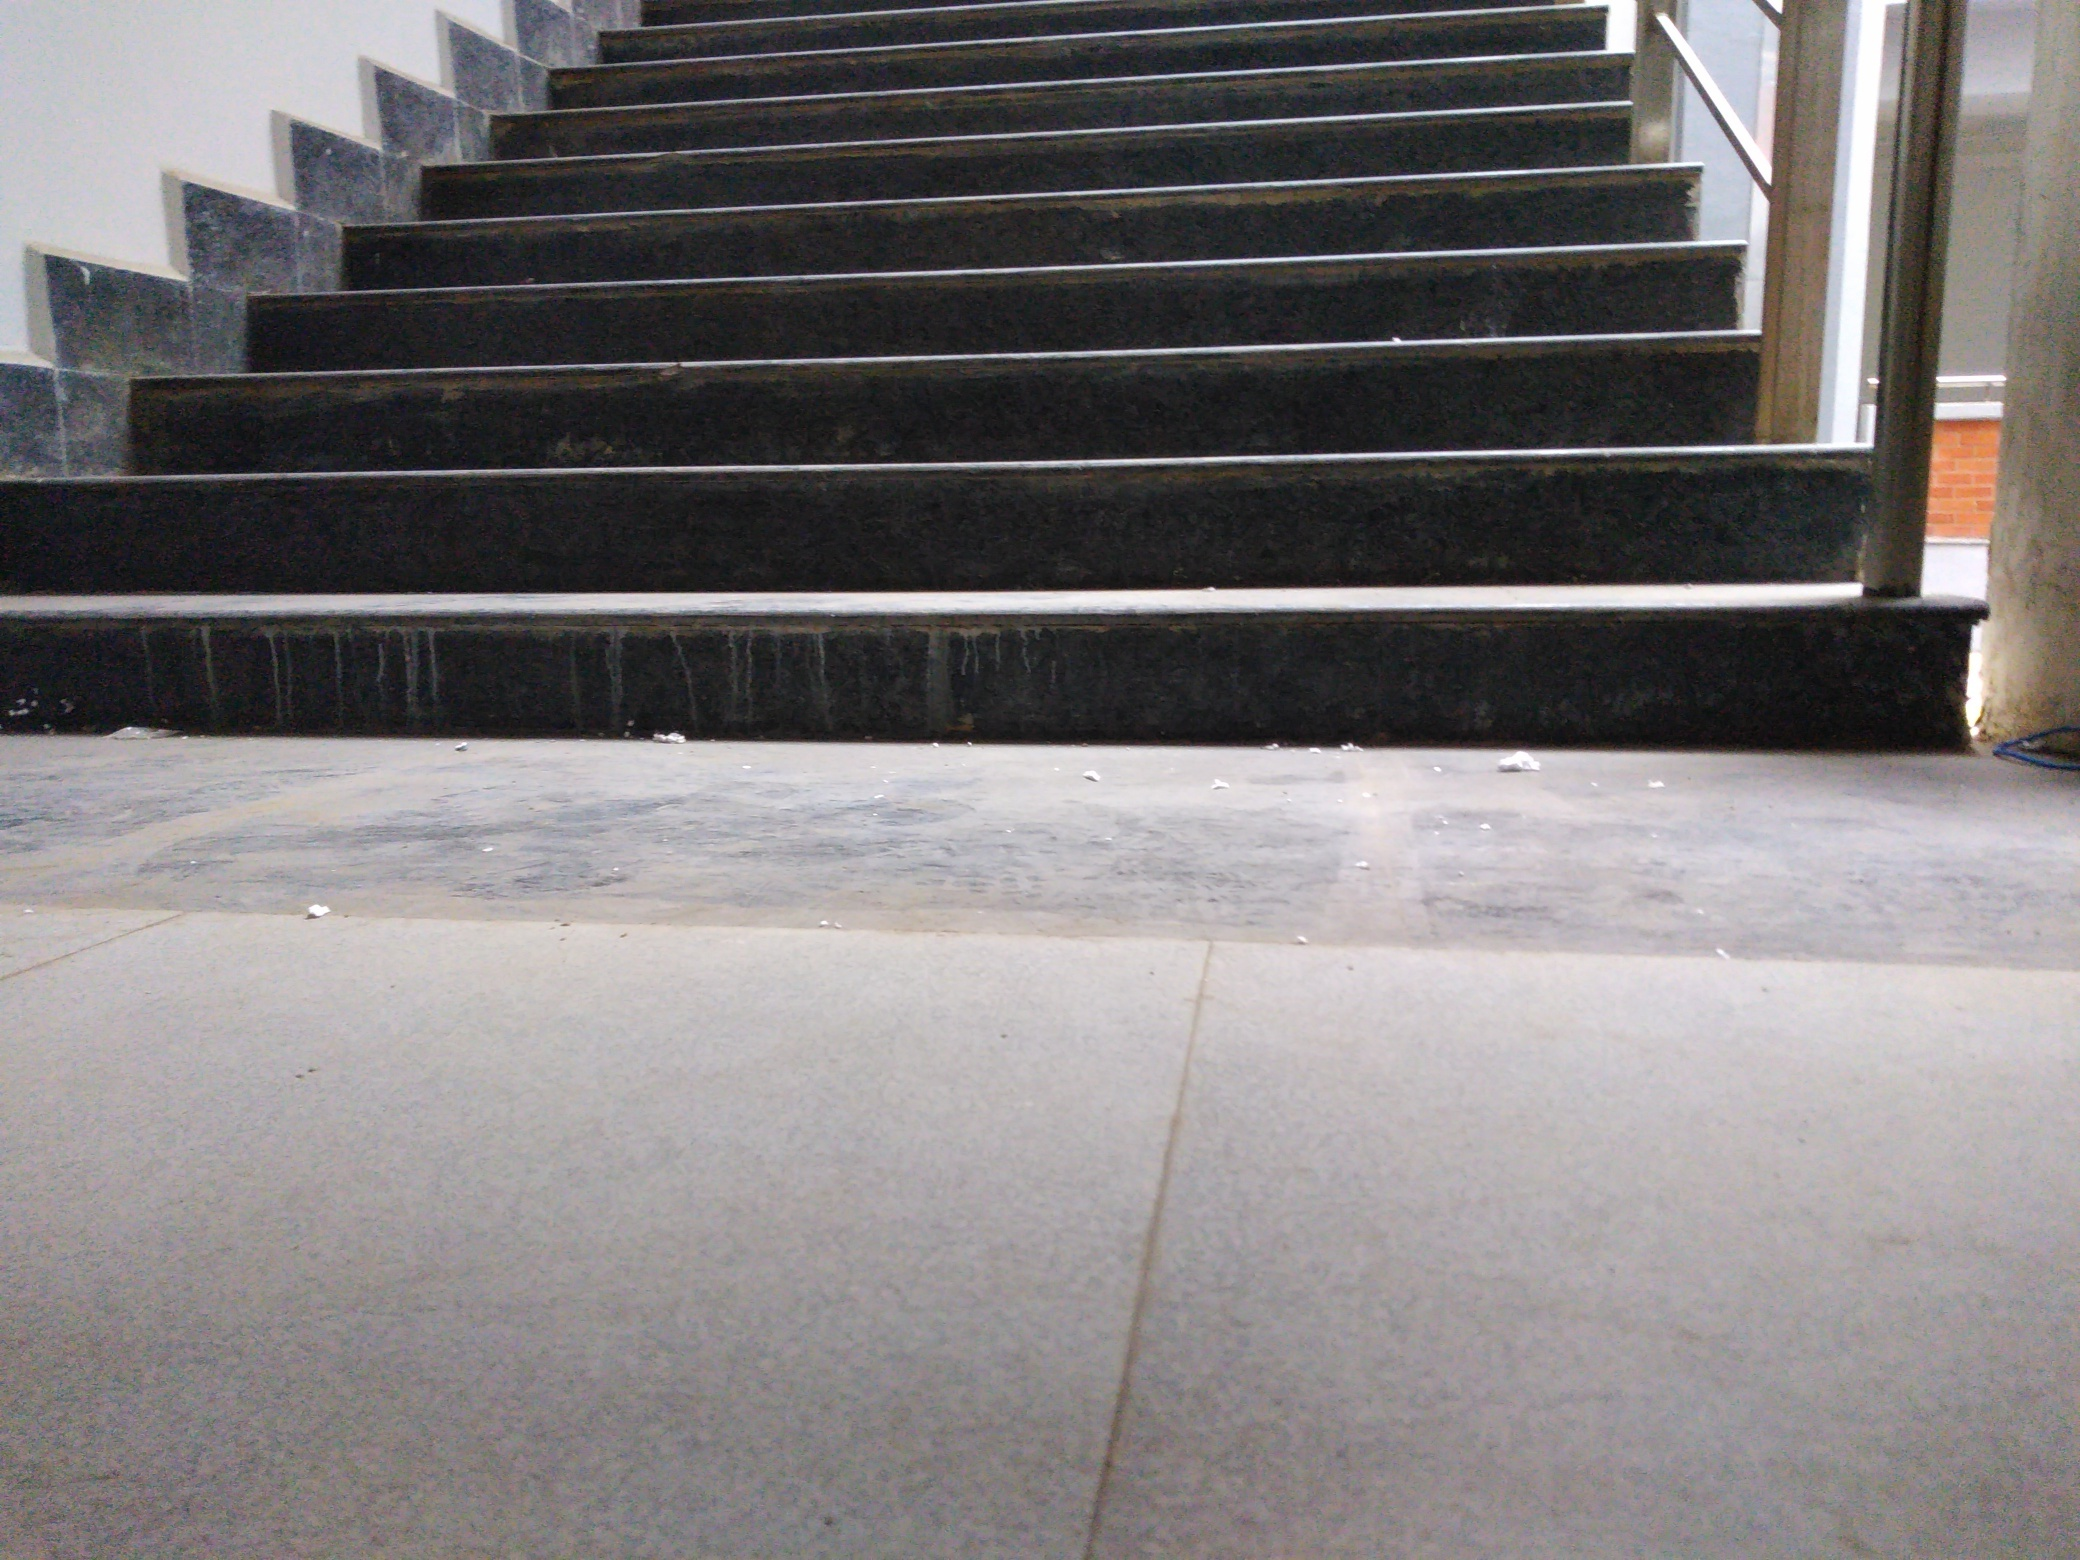stairs_up: (49, 51, 1811, 772)
